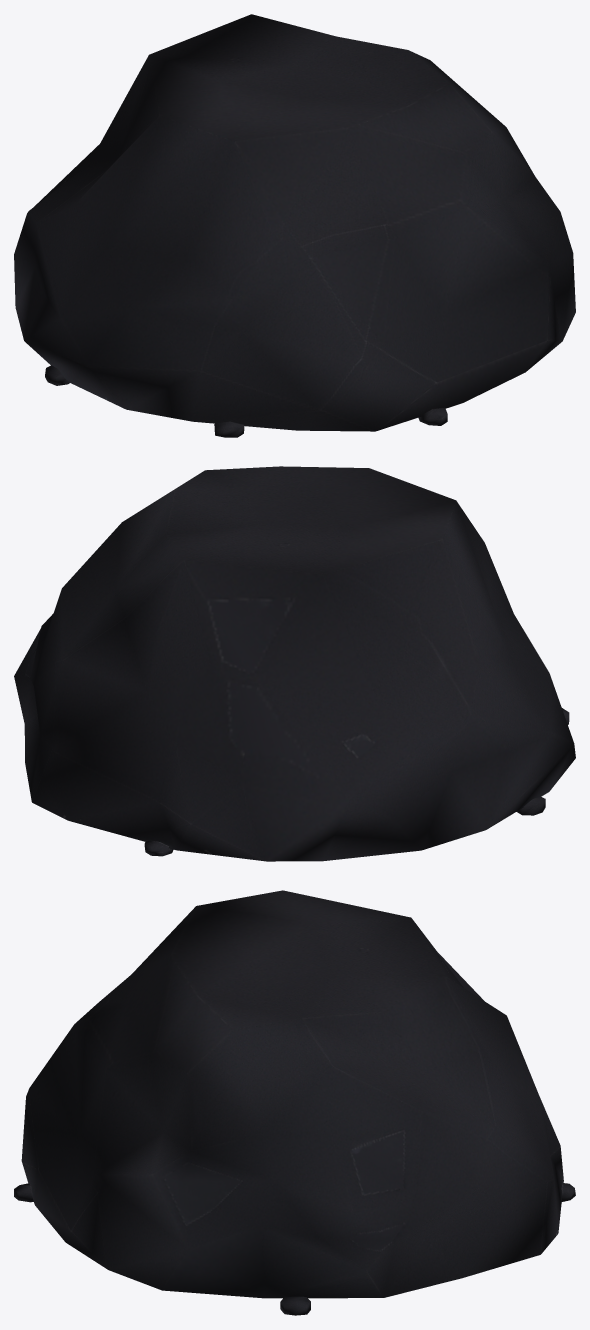
The model's file is Meshy_AI_Obsidian_Boulder_0831110621_texture.fbx.
3 renders of one model, top to bottom at view 1: azimuth 30°, elevation 25°; view 2: azimuth 150°, elevation 25°; view 3: azimuth 270°, elevation 25°, orthographic. The views are drawn at different scales.
Parts seen in each view (by area): view 1: mesh_node; view 2: mesh_node; view 3: mesh_node.
Part boxes in pixels (x1,y1,x2,y2): mesh_node: (14, 14, 575, 437); mesh_node: (14, 466, 575, 861); mesh_node: (14, 890, 575, 1315).
Size of the model in its own units: 100 by 47.56 by 100.
1 material, 1 textured.
